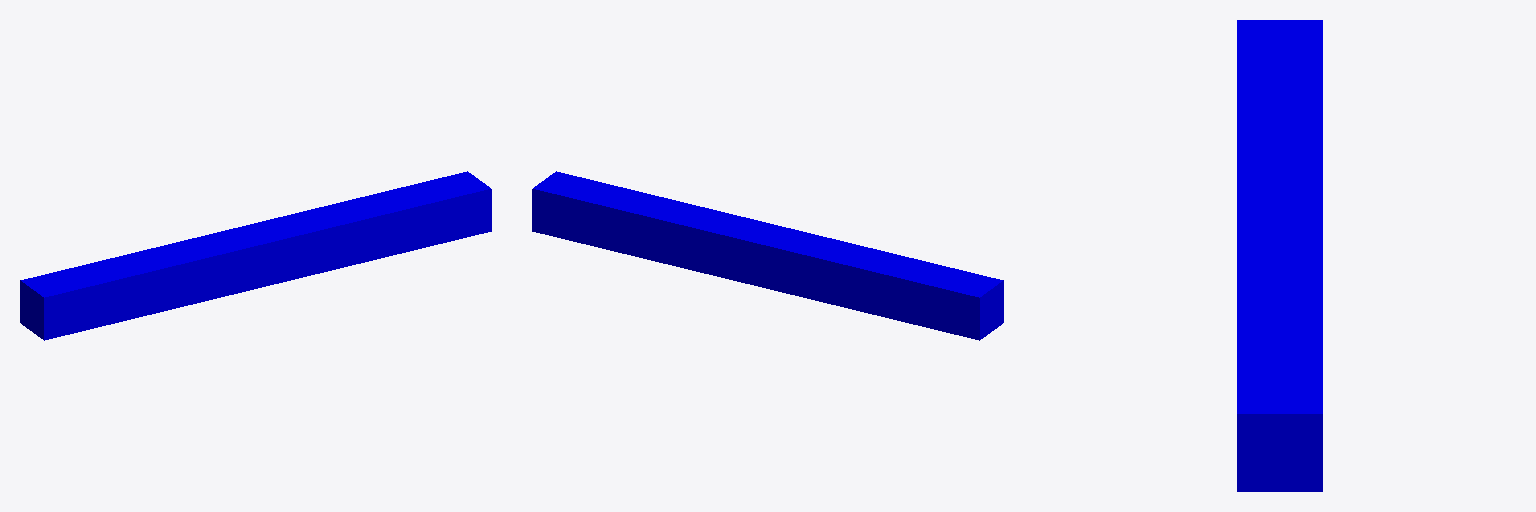
URDF robot description (snake):
<?xml version="1.0"?>
<robot name="snake">
  <material name="blue">
    <color rgba="0 0 1 1"/>
  </material>

  <link name="link0">
    <visual>
      <geometry>
        <box size="0.06 0.055 0.055"/>
      </geometry>
      <origin xyz="0.03 0 0"/>
      <material name="blue"/>
    </visual>
    <collision>
      <geometry>
        <box size="0.06 0.055 0.055"/>
      </geometry>
      <origin xyz="0.03 0 0"/>
    </collision>
    <inertial>
      <mass value="0.1"/>
      <origin xyz="0.03 0 0"/>
      <inertia ixx="0.0001" ixy="0" ixz="0" iyy="0.0001" iyz="0" izz="0.0001"/>
    </inertial>
  </link>

  <joint name="joint0" type="revolute">
    <parent link="link0"/>
    <child link="link1"/>
    <origin xyz="0.06 0 0"/>
    <axis xyz="0 0 1"/>
    <limit lower="-1.5" upper="1.5" effort="10" velocity="5"/>
  </joint>

  <link name="link1">
    <visual>
      <geometry>
        <box size="0.06 0.055 0.055"/>
      </geometry>
      <origin xyz="0.03 0 0"/>
      <material name="blue"/>
    </visual>
    <collision>
      <geometry>
        <box size="0.06 0.055 0.055"/>
      </geometry>
      <origin xyz="0.03 0 0"/>
    </collision>
    <inertial>
      <mass value="0.1"/>
      <origin xyz="0.03 0 0"/>
      <inertia ixx="0.0001" ixy="0" ixz="0" iyy="0.0001" iyz="0" izz="0.0001"/>
    </inertial>
  </link>

  <joint name="joint1" type="revolute">
    <parent link="link1"/>
    <child link="link2"/>
    <origin xyz="0.06 0 0"/>
    <axis xyz="0 0 1"/>
    <limit lower="-1.5" upper="1.5" effort="10" velocity="5"/>
  </joint>

  <link name="link2">
    <visual>
      <geometry>
        <box size="0.06 0.055 0.055"/>
      </geometry>
      <origin xyz="0.03 0 0"/>
      <material name="blue"/>
    </visual>
    <collision>
      <geometry>
        <box size="0.06 0.055 0.055"/>
      </geometry>
      <origin xyz="0.03 0 0"/>
    </collision>
    <inertial>
      <mass value="0.1"/>
      <origin xyz="0.03 0 0"/>
      <inertia ixx="0.0001" ixy="0" ixz="0" iyy="0.0001" iyz="0" izz="0.0001"/>
    </inertial>
  </link>

  <joint name="joint2" type="revolute">
    <parent link="link2"/>
    <child link="link3"/>
    <origin xyz="0.06 0 0"/>
    <axis xyz="0 0 1"/>
    <limit lower="-1.5" upper="1.5" effort="10" velocity="5"/>
  </joint>

  <link name="link3">
    <visual>
      <geometry>
        <box size="0.06 0.055 0.055"/>
      </geometry>
      <origin xyz="0.03 0 0"/>
      <material name="blue"/>
    </visual>
    <collision>
      <geometry>
        <box size="0.06 0.055 0.055"/>
      </geometry>
      <origin xyz="0.03 0 0"/>
    </collision>
    <inertial>
      <mass value="0.1"/>
      <origin xyz="0.03 0 0"/>
      <inertia ixx="0.0001" ixy="0" ixz="0" iyy="0.0001" iyz="0" izz="0.0001"/>
    </inertial>
  </link>

  <joint name="joint3" type="revolute">
    <parent link="link3"/>
    <child link="link4"/>
    <origin xyz="0.06 0 0"/>
    <axis xyz="0 0 1"/>
    <limit lower="-1.5" upper="1.5" effort="10" velocity="5"/>
  </joint>

  <link name="link4">
    <visual>
      <geometry>
        <box size="0.06 0.055 0.055"/>
      </geometry>
      <origin xyz="0.03 0 0"/>
      <material name="blue"/>
    </visual>
    <collision>
      <geometry>
        <box size="0.06 0.055 0.055"/>
      </geometry>
      <origin xyz="0.03 0 0"/>
    </collision>
    <inertial>
      <mass value="0.1"/>
      <origin xyz="0.03 0 0"/>
      <inertia ixx="0.0001" ixy="0" ixz="0" iyy="0.0001" iyz="0" izz="0.0001"/>
    </inertial>
  </link>

  <joint name="joint4" type="revolute">
    <parent link="link4"/>
    <child link="link5"/>
    <origin xyz="0.06 0 0"/>
    <axis xyz="0 0 1"/>
    <limit lower="-1.5" upper="1.5" effort="10" velocity="5"/>
  </joint>

  <link name="link5">
    <visual>
      <geometry>
        <box size="0.06 0.055 0.055"/>
      </geometry>
      <origin xyz="0.03 0 0"/>
      <material name="blue"/>
    </visual>
    <collision>
      <geometry>
        <box size="0.06 0.055 0.055"/>
      </geometry>
      <origin xyz="0.03 0 0"/>
    </collision>
    <inertial>
      <mass value="0.1"/>
      <origin xyz="0.03 0 0"/>
      <inertia ixx="0.0001" ixy="0" ixz="0" iyy="0.0001" iyz="0" izz="0.0001"/>
    </inertial>
  </link>

  <joint name="joint5" type="revolute">
    <parent link="link5"/>
    <child link="link6"/>
    <origin xyz="0.06 0 0"/>
    <axis xyz="0 0 1"/>
    <limit lower="-1.5" upper="1.5" effort="10" velocity="5"/>
  </joint>

  <link name="link6">
    <visual>
      <geometry>
        <box size="0.06 0.055 0.055"/>
      </geometry>
      <origin xyz="0.03 0 0"/>
      <material name="blue"/>
    </visual>
    <collision>
      <geometry>
        <box size="0.06 0.055 0.055"/>
      </geometry>
      <origin xyz="0.03 0 0"/>
    </collision>
    <inertial>
      <mass value="0.1"/>
      <origin xyz="0.03 0 0"/>
      <inertia ixx="0.0001" ixy="0" ixz="0" iyy="0.0001" iyz="0" izz="0.0001"/>
    </inertial>
  </link>

  <joint name="joint6" type="revolute">
    <parent link="link6"/>
    <child link="link7"/>
    <origin xyz="0.06 0 0"/>
    <axis xyz="0 0 1"/>
    <limit lower="-1.5" upper="1.5" effort="10" velocity="5"/>
  </joint>

  <link name="link7">
    <visual>
      <geometry>
        <box size="0.06 0.055 0.055"/>
      </geometry>
      <origin xyz="0.03 0 0"/>
      <material name="blue"/>
    </visual>
    <collision>
      <geometry>
        <box size="0.06 0.055 0.055"/>
      </geometry>
      <origin xyz="0.03 0 0"/>
    </collision>
    <inertial>
      <mass value="0.1"/>
      <origin xyz="0.03 0 0"/>
      <inertia ixx="0.0001" ixy="0" ixz="0" iyy="0.0001" iyz="0" izz="0.0001"/>
    </inertial>
  </link>

  <joint name="joint7" type="revolute">
    <parent link="link7"/>
    <child link="link8"/>
    <origin xyz="0.06 0 0"/>
    <axis xyz="0 0 1"/>
    <limit lower="-1.5" upper="1.5" effort="10" velocity="5"/>
  </joint>

  <link name="link8">
    <visual>
      <geometry>
        <box size="0.06 0.055 0.055"/>
      </geometry>
      <origin xyz="0.03 0 0"/>
      <material name="blue"/>
    </visual>
    <collision>
      <geometry>
        <box size="0.06 0.055 0.055"/>
      </geometry>
      <origin xyz="0.03 0 0"/>
    </collision>
    <inertial>
      <mass value="0.1"/>
      <origin xyz="0.03 0 0"/>
      <inertia ixx="0.0001" ixy="0" ixz="0" iyy="0.0001" iyz="0" izz="0.0001"/>
    </inertial>
  </link>

  <joint name="joint8" type="revolute">
    <parent link="link8"/>
    <child link="link9"/>
    <origin xyz="0.06 0 0"/>
    <axis xyz="0 0 1"/>
    <limit lower="-1.5" upper="1.5" effort="10" velocity="5"/>
  </joint>

  <link name="link9">
    <visual>
      <geometry>
        <box size="0.06 0.055 0.055"/>
      </geometry>
      <origin xyz="0.03 0 0"/>
      <material name="blue"/>
    </visual>
    <collision>
      <geometry>
        <box size="0.06 0.055 0.055"/>
      </geometry>
      <origin xyz="0.03 0 0"/>
    </collision>
    <inertial>
      <mass value="0.1"/>
      <origin xyz="0.03 0 0"/>
      <inertia ixx="0.0001" ixy="0" ixz="0" iyy="0.0001" iyz="0" izz="0.0001"/>
    </inertial>
  </link>

</robot>

--- Render facts (derived) ---
Views: 3 orthographic renders of the robot side by side, from view 1: azimuth 30°, elevation 25°; view 2: azimuth 150°, elevation 25°; view 3: azimuth 270°, elevation 25°.
Model snake with 10 links and 9 joints (9 revolute), rooted at link0, posed every joint at zero.
Links seen in each view (by area): view 1: link0, link1, link7, link4, link8, link9, link5, link3, link2, link6; view 2: link0, link1, link7, link4, link8, link9, link5, link3, link2, link6; view 3: link9, link0, link2, link5, link8, link1, link3, link4, link6, link7.
Boxes of the visible links, left/top/right/bottom form: link0: left=20, top=270, right=88, bottom=340; link1: left=65, top=259, right=133, bottom=329; link7: left=334, top=193, right=401, bottom=263; link4: left=200, top=226, right=267, bottom=296; link8: left=379, top=182, right=446, bottom=252; link9: left=423, top=171, right=491, bottom=241; link5: left=245, top=215, right=312, bottom=285; link3: left=156, top=237, right=222, bottom=307; link2: left=110, top=248, right=177, bottom=318; link6: left=290, top=204, right=356, bottom=274; link0: left=935, top=270, right=1003, bottom=340; link1: left=890, top=259, right=958, bottom=329; link7: left=622, top=193, right=689, bottom=263; link4: left=756, top=226, right=823, bottom=296; link8: left=577, top=182, right=644, bottom=252; link9: left=532, top=171, right=600, bottom=241; link5: left=711, top=215, right=778, bottom=285; link3: left=801, top=237, right=867, bottom=307; link2: left=846, top=248, right=913, bottom=318; link6: left=667, top=204, right=733, bottom=274; link9: left=1237, top=375, right=1322, bottom=491; link0: left=1237, top=20, right=1322, bottom=59; link2: left=1237, top=99, right=1322, bottom=138; link5: left=1237, top=217, right=1322, bottom=256; link8: left=1237, top=335, right=1322, bottom=374; link1: left=1237, top=60, right=1322, bottom=98; link3: left=1237, top=139, right=1322, bottom=177; link4: left=1237, top=178, right=1322, bottom=216; link6: left=1237, top=257, right=1322, bottom=295; link7: left=1237, top=296, right=1322, bottom=334.
Size in the robot's own frame: 0.6 by 0.055 by 0.055 metres.
Geometry: primitives only (box / cylinder / sphere), no mesh files.
